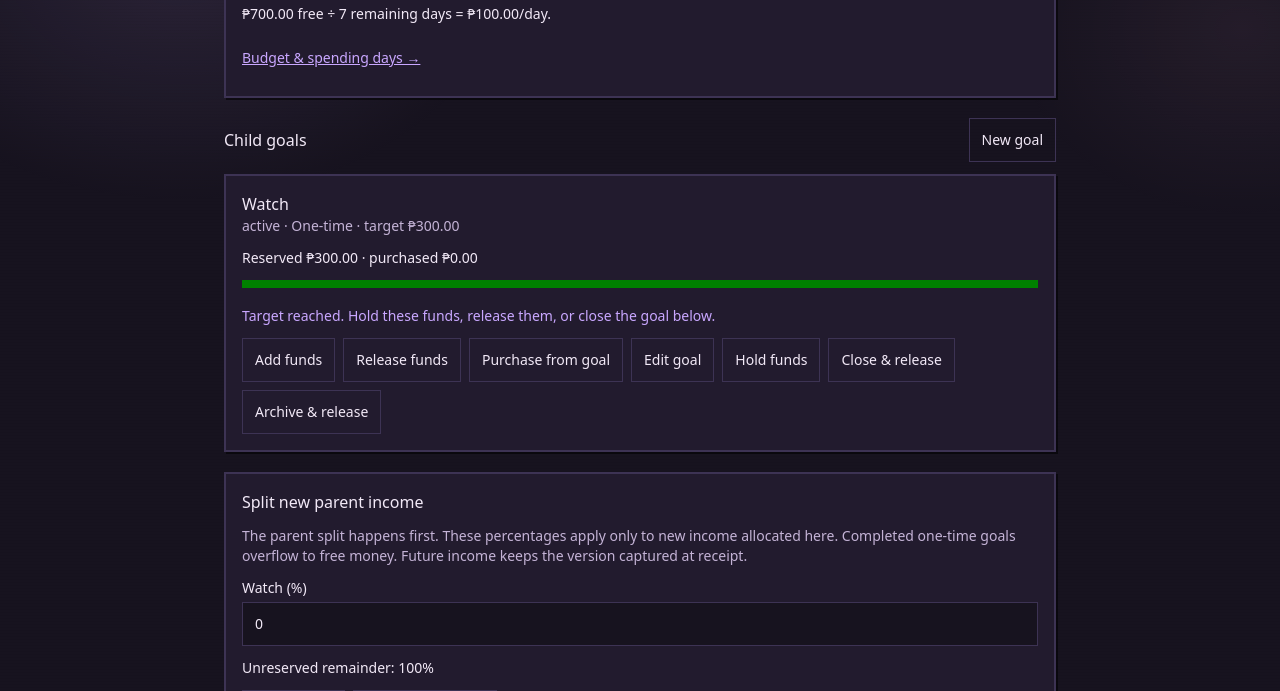
Test case: requires an explicit account and records a real purchase consuming the reservation once
(page scrolled)
Click the button "Purchase from goal" at (546, 360), box [469,338,623,382]
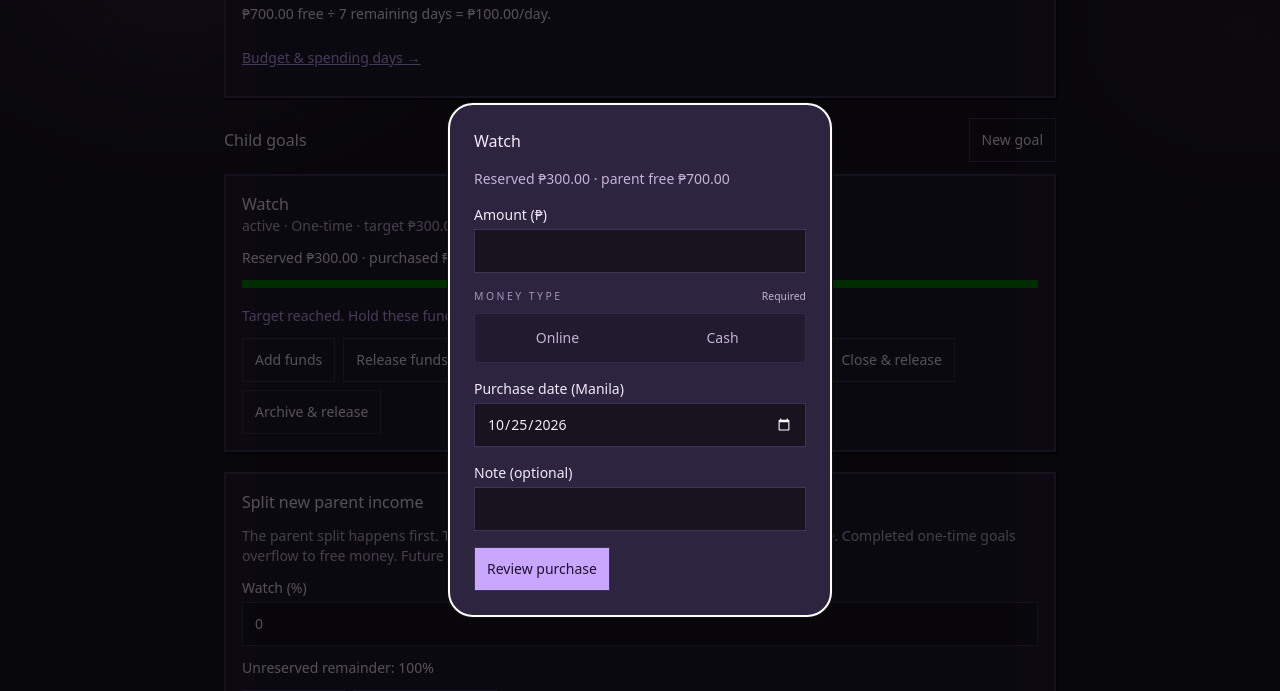
Type "200" into the field labelled "Amount (₱)" at (640, 251), box [474,229,806,273]
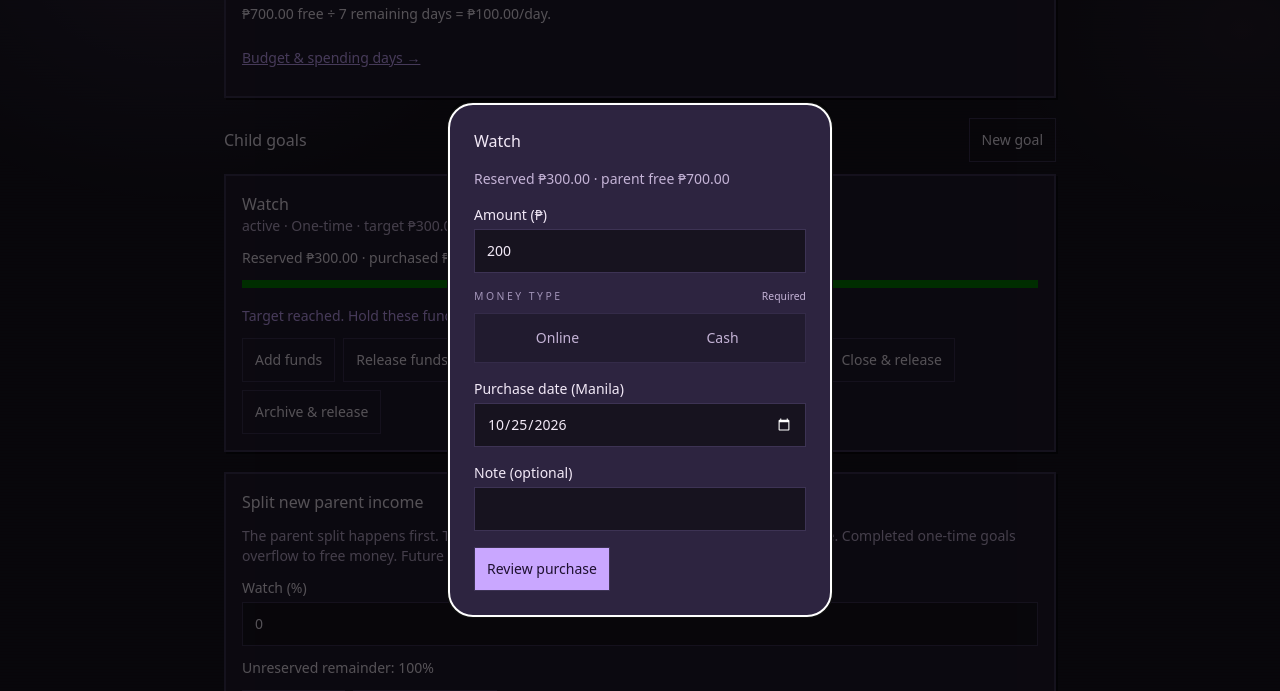
Click the button "Review purchase" at (542, 569), box [474,547,610,591]
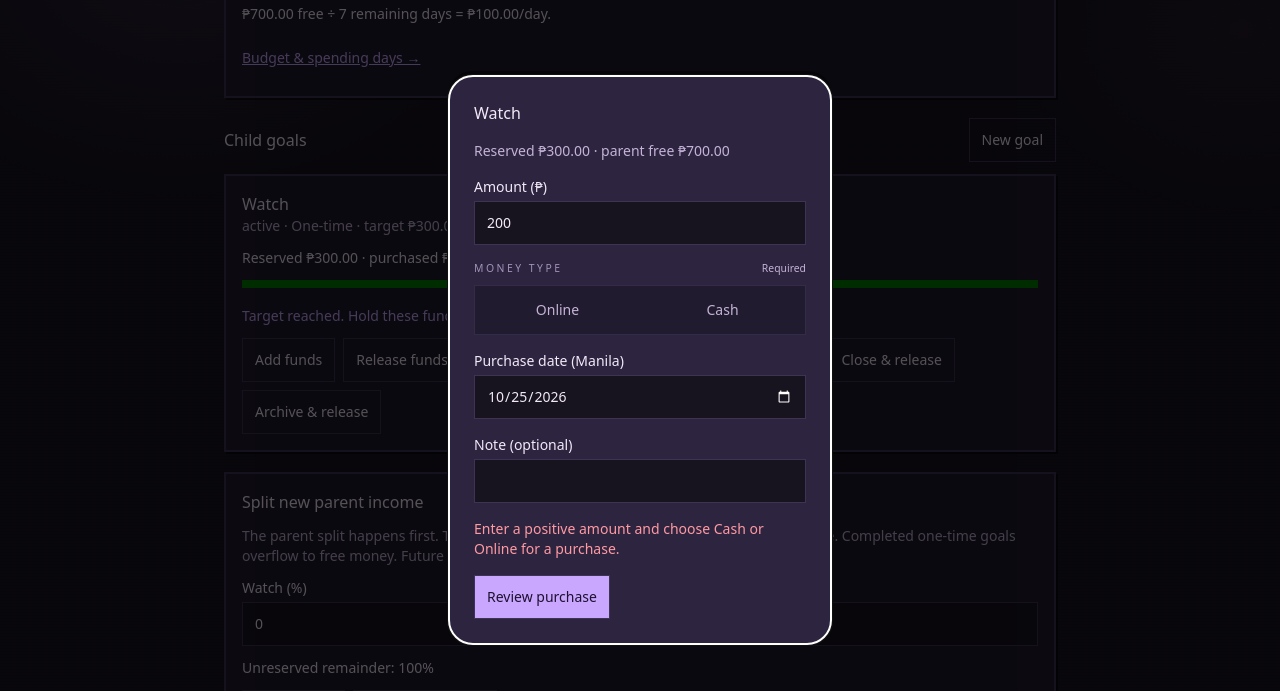
Check: the message shows "choose Cash or Online", box [474,519,764,558]
Click the button "Cash" at (722, 310), box [644,290,801,330]
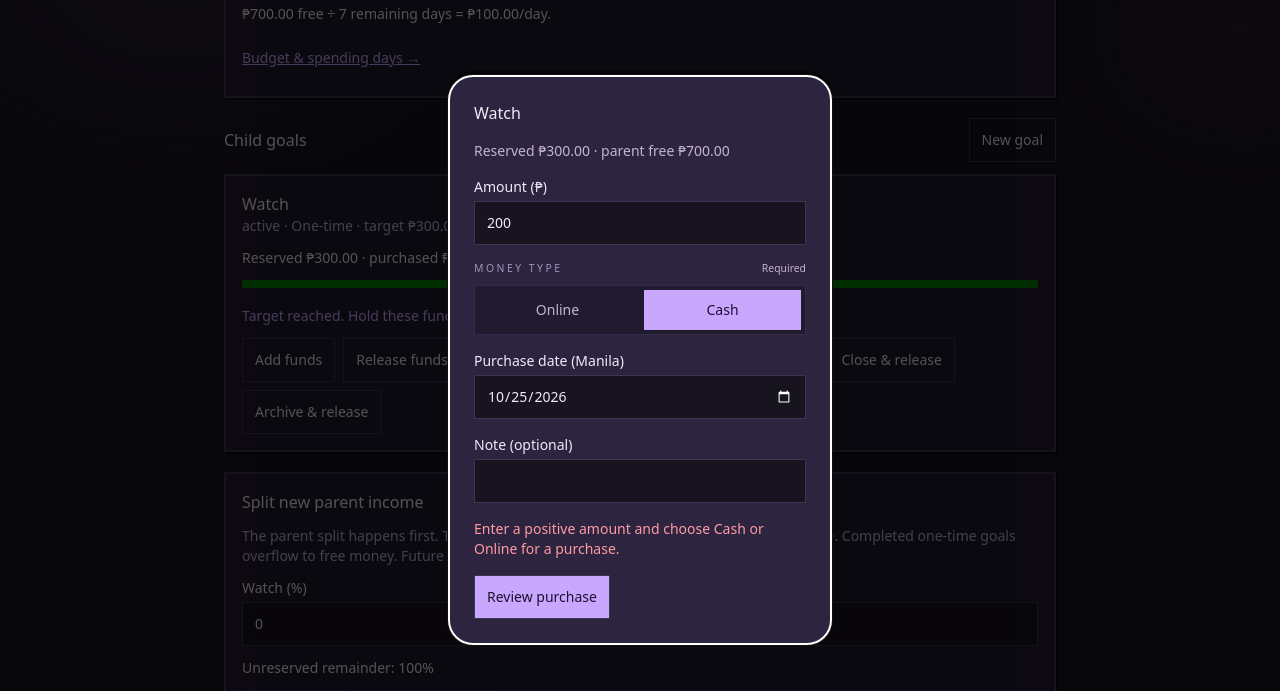
Click the button "Review purchase" at (542, 597), box [474,575,610,619]
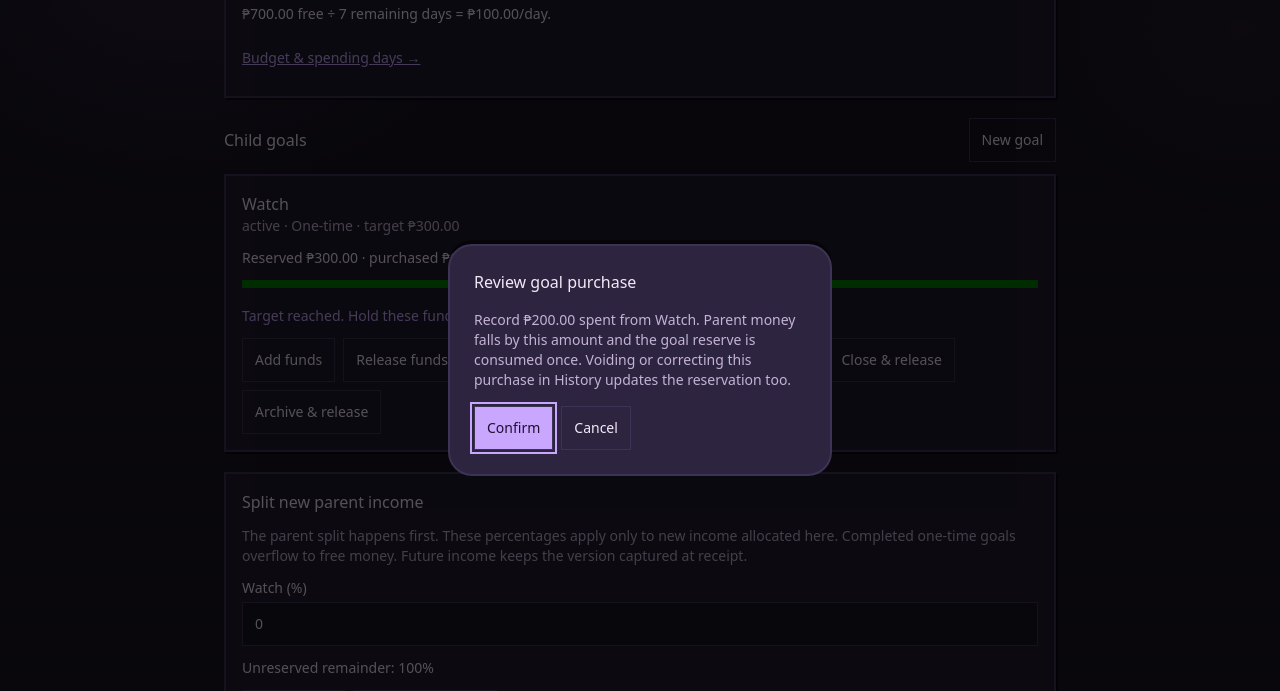
Click the button "Confirm" at (514, 428), box [474,406,553,450]
(page scrolled)
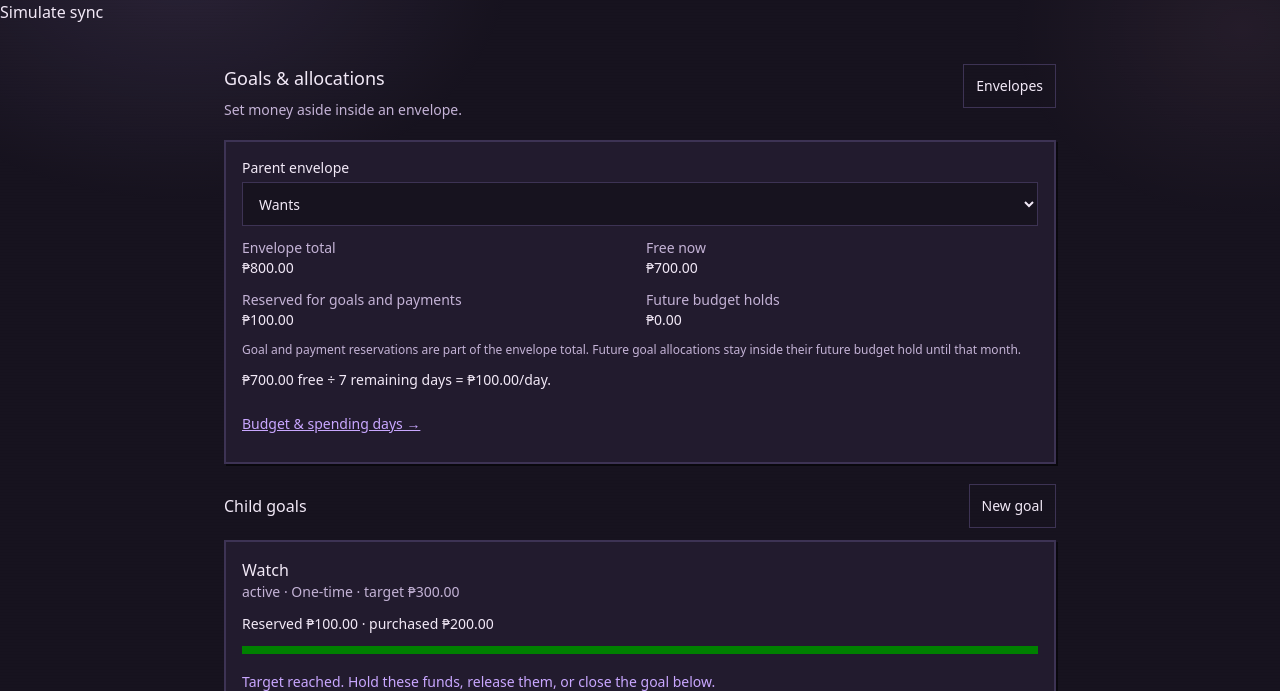
Check: the text "₱700.00" is shown, box [646,258,698,277]
Check: the dialog is gone
Check: the text "Reserved ₱100.00 · purchased ₱200.00" is shown, box [242,614,494,633]
